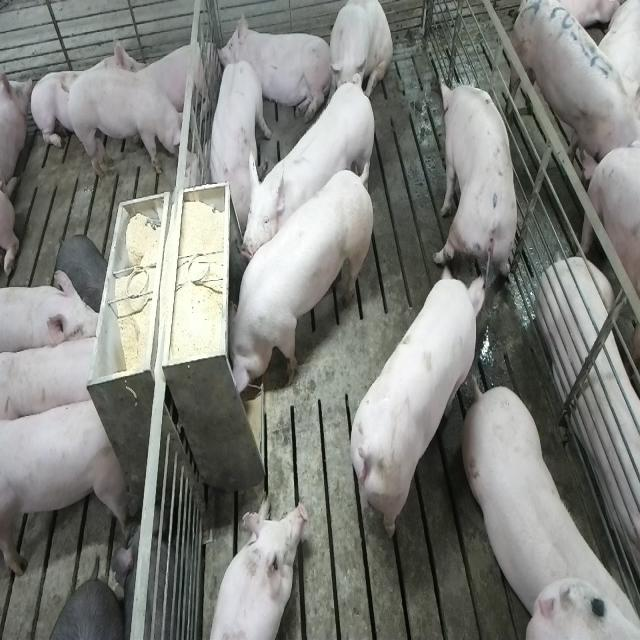Feeding: (218, 163, 370, 400)
Sitting: (328, 1, 392, 110)
Standing: (458, 376, 634, 633), (344, 270, 484, 552), (242, 80, 380, 270), (1, 392, 131, 582), (510, 0, 640, 185), (434, 74, 518, 292), (66, 77, 192, 182), (2, 332, 104, 428), (210, 61, 268, 216), (4, 270, 106, 356)
Sternal_lying: (540, 232, 640, 591), (204, 498, 306, 640), (32, 30, 144, 156), (218, 11, 330, 125), (139, 36, 213, 120)
